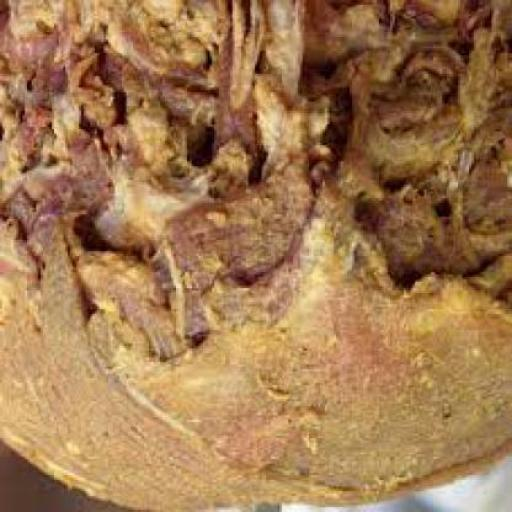biodegradable: (0, 2, 511, 511)
